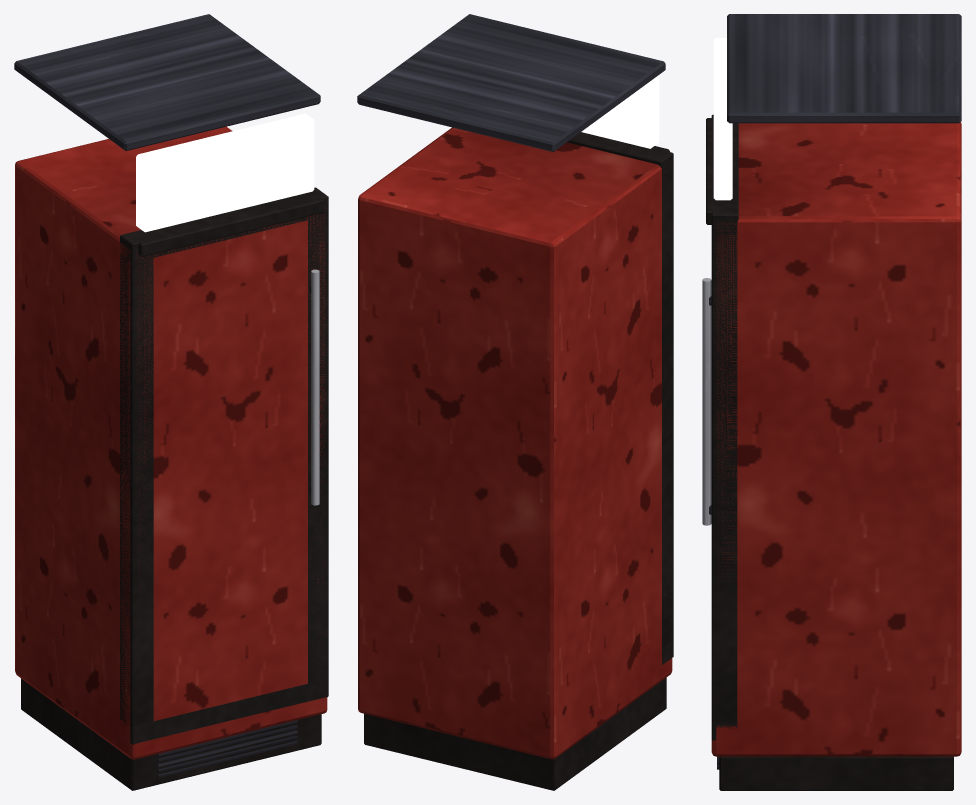
Rendered from fridge_drinks.glb.
3 renders of one model, left to right at view 1: azimuth 30°, elevation 25°; view 2: azimuth 150°, elevation 25°; view 3: azimuth 270°, elevation 25°, orthographic. The views are drawn at different scales.
Visible parts, largest first — view 1: fridge_drinks; view 2: fridge_drinks; view 3: fridge_drinks.
Boxes of the visible parts, bbox=[...] form: fridge_drinks: bbox=[14, 14, 328, 790]; fridge_drinks: bbox=[357, 14, 673, 790]; fridge_drinks: bbox=[702, 14, 961, 790].
Bounding box in the file's own units: 0.62 × 1.95 × 0.674.
Materials: 9 (4 with a texture image).
